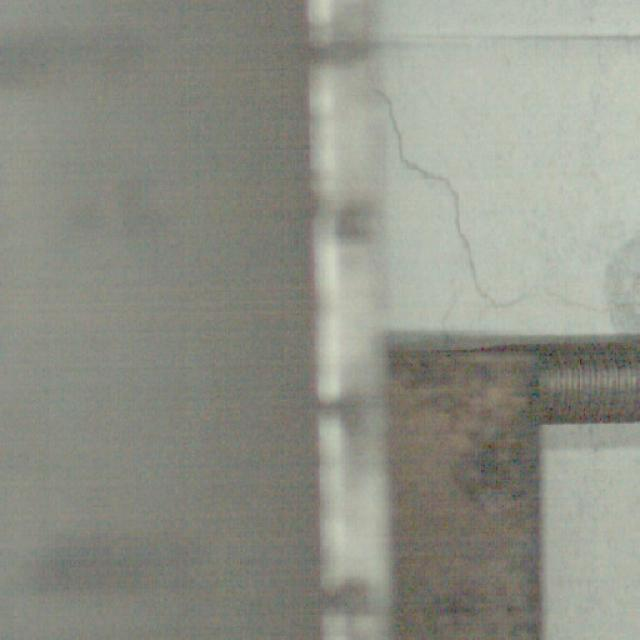Network: (366, 52, 634, 330)
